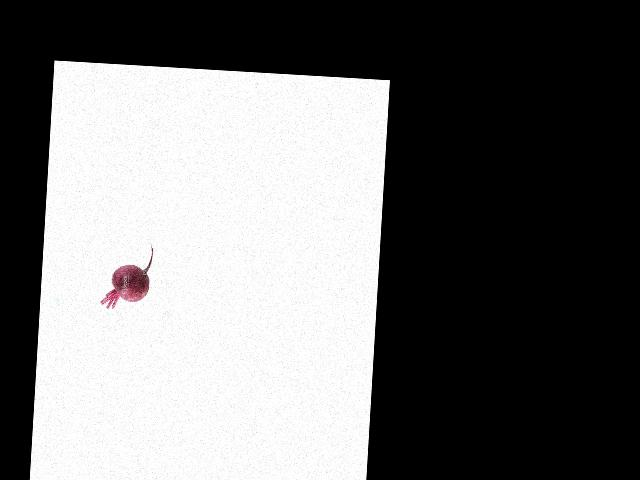beet: (100, 239, 153, 310)
